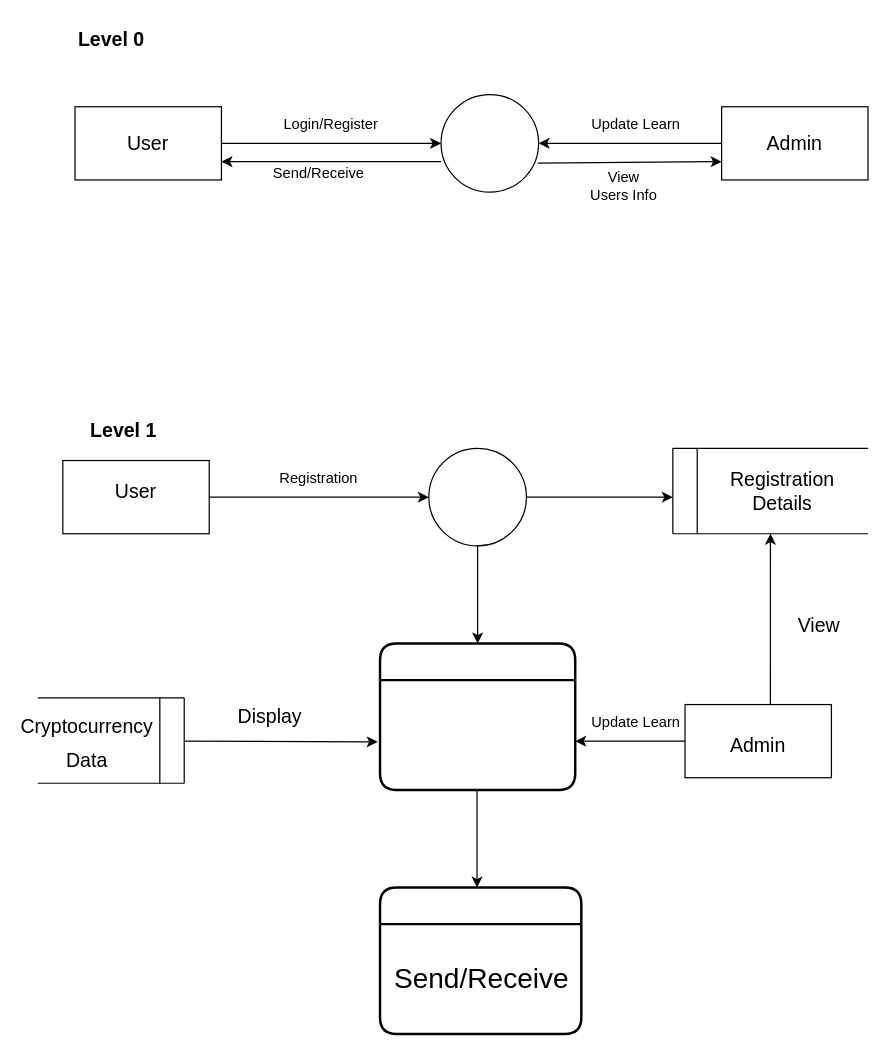
This 891x1055 diagram has some shape labels left out. The shapes that lost their labels are listed below. From the top down, each one's box as (x1, y1, x2, y2) in pixels, then its label:
(440, 93, 539, 192): CRYP COIN
(428, 447, 526, 546): Register
(378, 642, 576, 791): Dashboard
